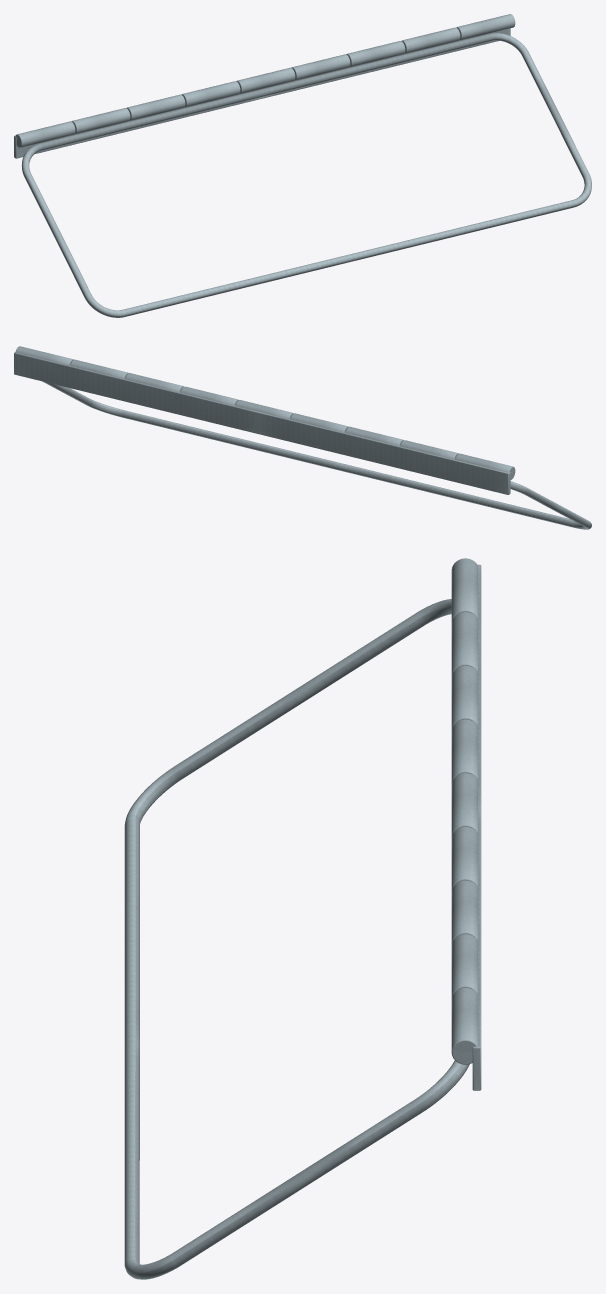
Rendered from 8-half-open-canopy-and-real-hinge-2.fbx.
3 renders of one model, top to bottom at view 1: azimuth 30°, elevation 25°; view 2: azimuth 150°, elevation 25°; view 3: azimuth 270°, elevation 25°, orthographic. The views are drawn at different scales.
Parts seen in each view (by area): view 1: half-open-canopy-and-real-hinge-2; view 2: half-open-canopy-and-real-hinge-2; view 3: half-open-canopy-and-real-hinge-2.
Part boxes in pixels (x1,y1,x2,y2): half-open-canopy-and-real-hinge-2: [14, 14, 591, 317]; half-open-canopy-and-real-hinge-2: [14, 346, 591, 529]; half-open-canopy-and-real-hinge-2: [124, 558, 481, 1279].
Size of the model in its own units: 9170 by 2197 by 2809.
1 material, 1 textured.
